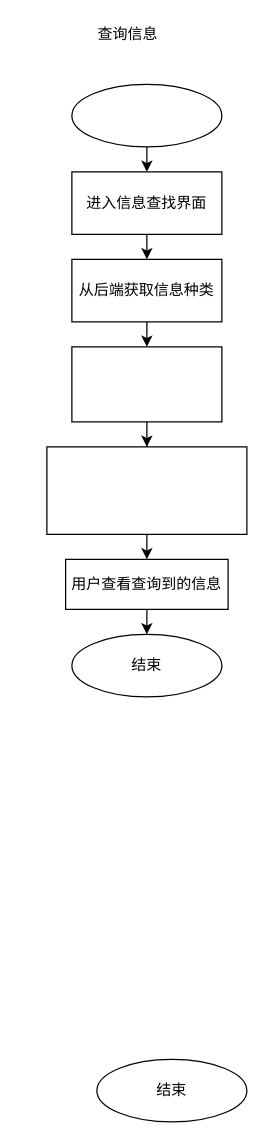
Some shapes in this 269 by 1144 pixel diagram are drawn without their labels. The centre of each missing label's shape, as x and y in pixels:
后端构造查询条件，对信息表、信息属性值表、图片表进行关联分页查询并返回结果: point 146,490
开始: point 146,115
用户选择信息种类或输入关键词进行查找: point 146,384
